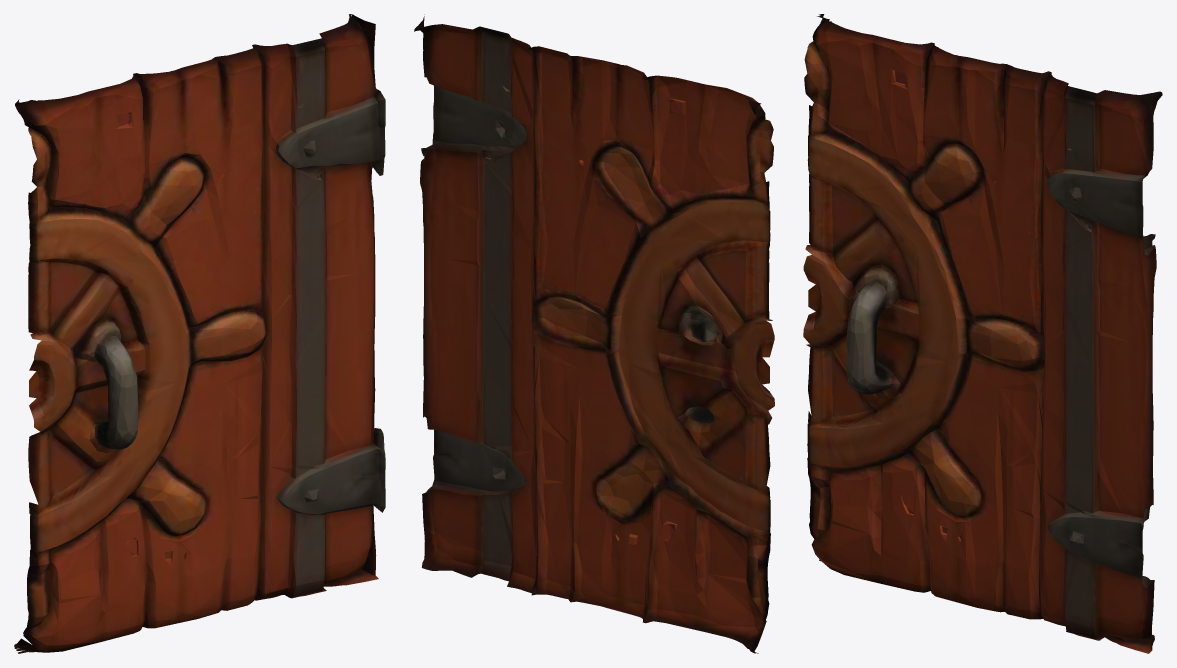
File: door_right.glb
3 renders of one model, left to right at view 1: azimuth 30°, elevation 25°; view 2: azimuth 150°, elevation 25°; view 3: azimuth 330°, elevation 25°, orthographic.
Visible parts, largest first — view 1: source_surface_0; view 2: source_surface_0; view 3: source_surface_0.
Boxes of the visible parts, x1=… form: source_surface_0: x1=14, y1=14, x2=385, y2=653; source_surface_0: x1=414, y1=14, x2=774, y2=653; source_surface_0: x1=803, y1=14, x2=1162, y2=653.
Size of the model in its own units: 0.2271 by 0.3452 by 0.0516.
1 material, 1 textured.
